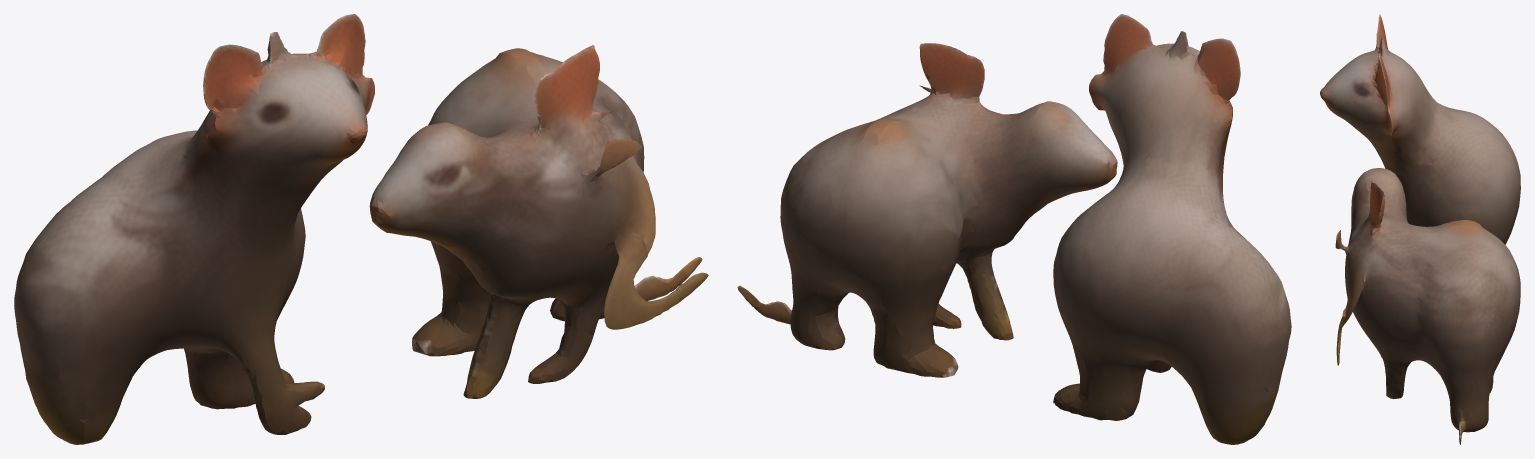
File: cemetery_rat_swarm.glb
3 renders of one model, left to right at view 1: azimuth 30°, elevation 25°; view 2: azimuth 150°, elevation 25°; view 3: azimuth 270°, elevation 25°, orthographic. The views are drawn at different scales.
Visible parts, largest first — view 1: cemetery_rat_swarm; view 2: cemetery_rat_swarm; view 3: cemetery_rat_swarm.
Boxes of the visible parts, x1,y1,x2,y2 form: cemetery_rat_swarm: (14,14,708,444); cemetery_rat_swarm: (737,14,1291,444); cemetery_rat_swarm: (1320,14,1520,444).
Bounding box in the file's own units: 1.89 × 1.13 × 0.7527.
Materials: 1 (1 with a texture image).
